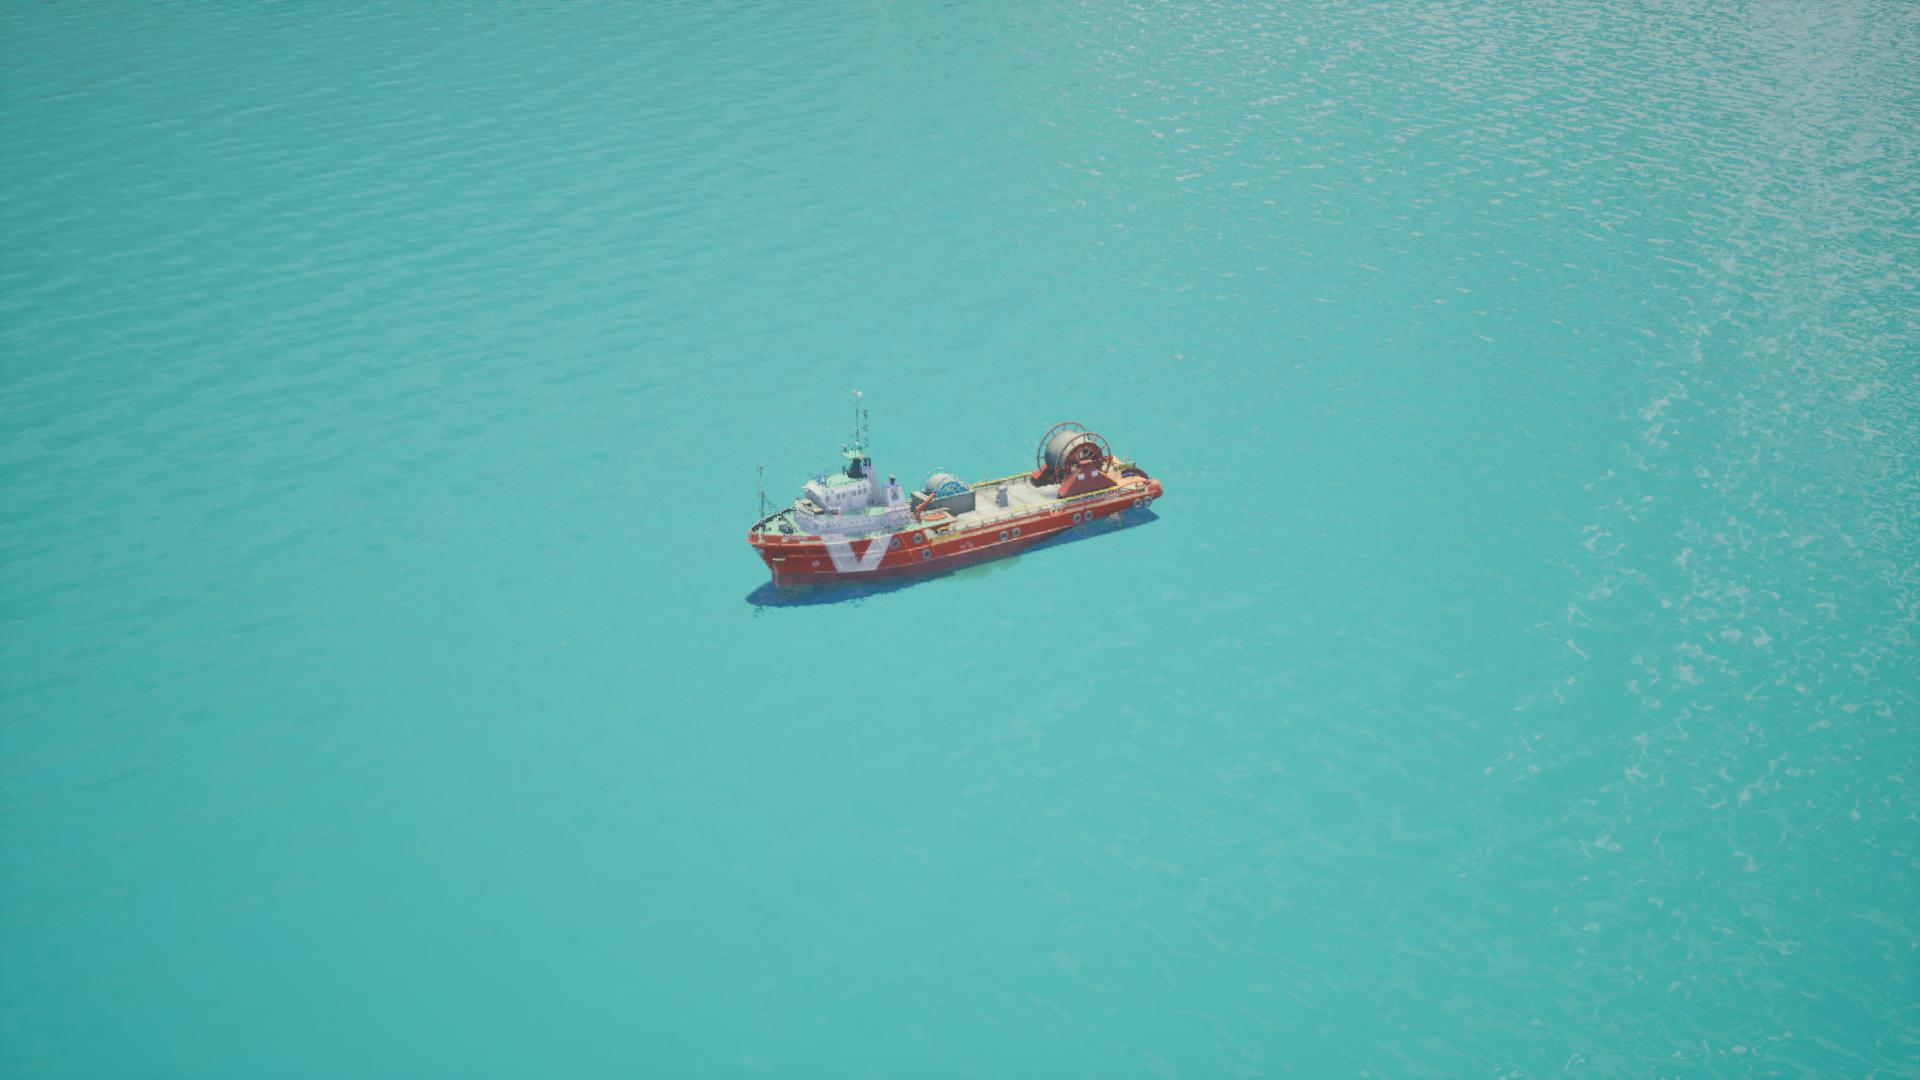Tug Boat: (741, 394, 1166, 611)
